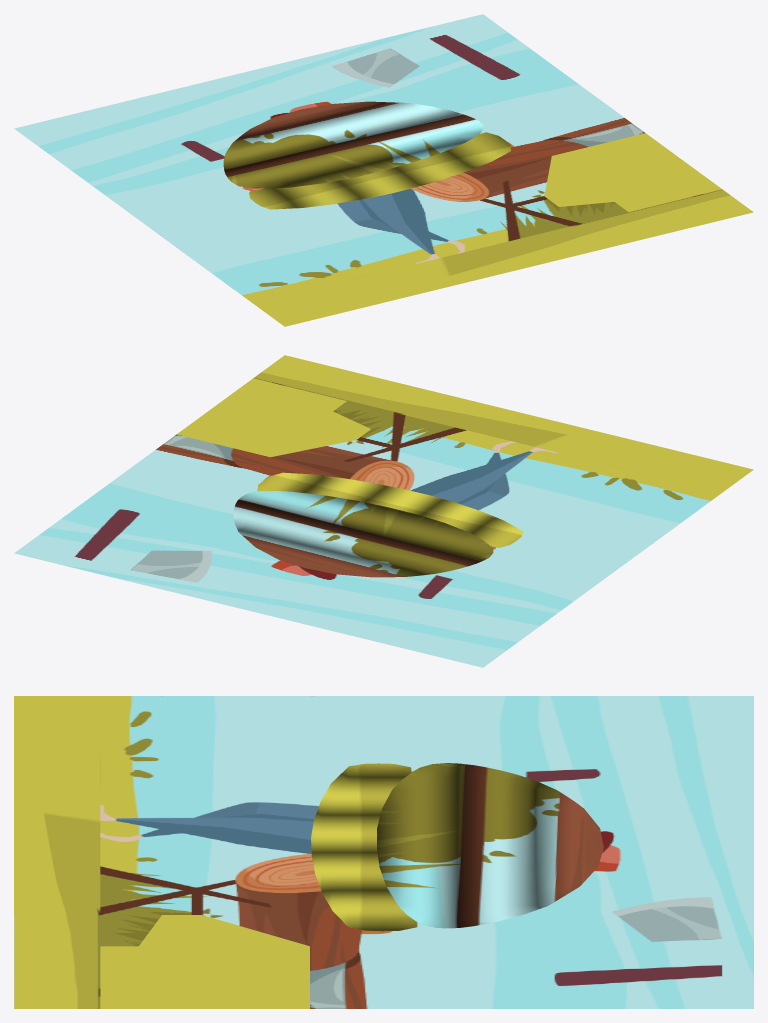
3 renders of one model, top to bottom at view 1: azimuth 30°, elevation 25°; view 2: azimuth 150°, elevation 25°; view 3: azimuth 270°, elevation 25°, orthographic. The views are drawn at different scales.
Visible parts, largest first — view 1: pPlane1, blend_02, blend_01; view 2: pPlane1, blend_02, blend_01; view 3: pPlane1, blend_02, blend_01.
Part boxes in pixels (x1,y1,x2,y2): pPlane1: (14,14,753,326); blend_02: (223,101,483,188); blend_01: (249,132,511,209); pPlane1: (14,355,753,667); blend_02: (233,491,493,577); blend_01: (257,472,522,547); pPlane1: (14,696,753,1008); blend_02: (377,763,603,928); blend_01: (311,763,417,931).
Size of the model in its own units: 2400 by 12.98 by 2400.
